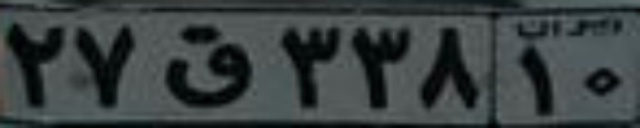0: (581, 66, 623, 97)
1: (518, 44, 554, 114)
2: (5, 21, 68, 109)
3: (349, 26, 410, 108), (281, 24, 338, 107)
7: (75, 22, 146, 108)
8: (420, 23, 480, 107)
ghaf: (164, 25, 257, 109)
